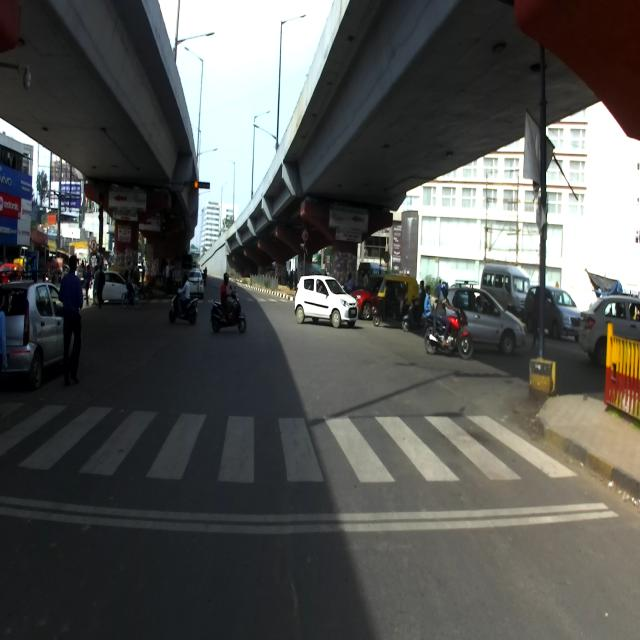car ahead at: (6, 273, 58, 382), (294, 271, 355, 327)
motorcycle ahead at: (425, 282, 479, 366), (211, 269, 250, 339), (167, 275, 198, 327)
person ahead at: (58, 254, 86, 386)
traffic signal ahead at: (187, 170, 212, 196)
zebra crossing ahead at: (0, 391, 593, 487)
